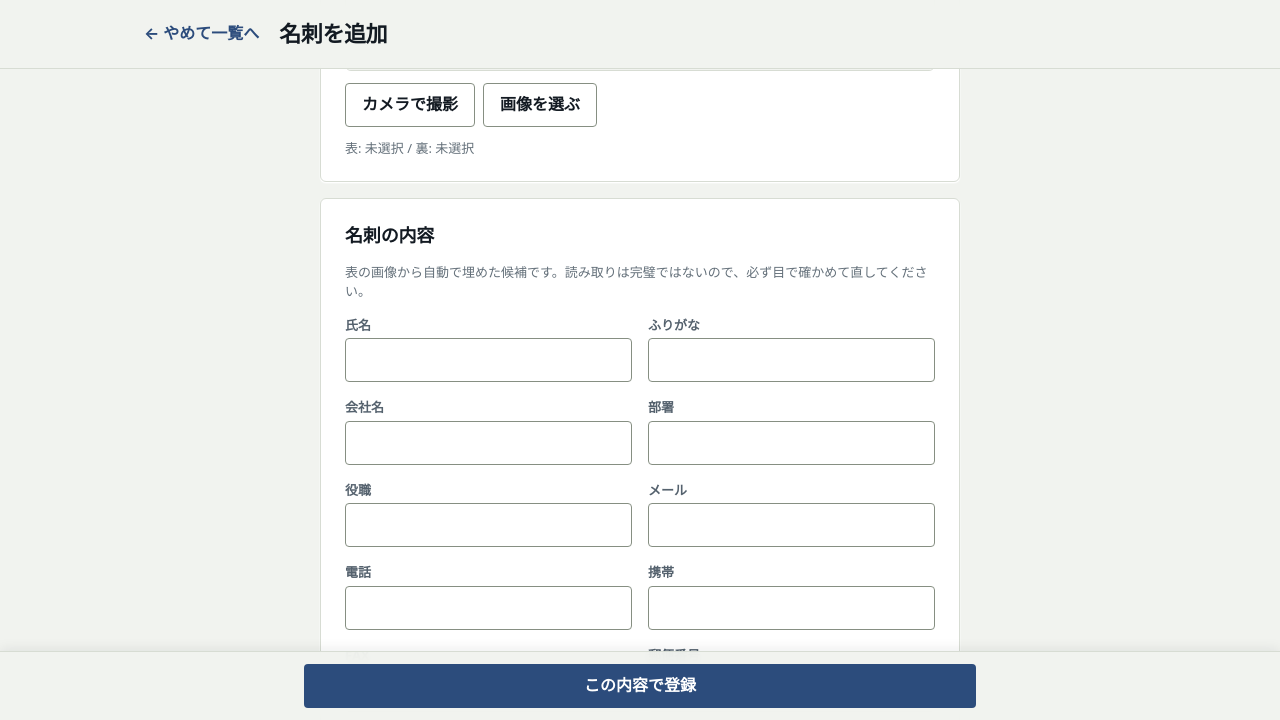
Test: 登録画面 / 保存 › 登録に失敗したらエラーを見せ、フォームに留まる
(page scrolled)
Type "鈴木 一郎" into the field labelled "氏名" at (488,360), box [345, 338, 632, 382]
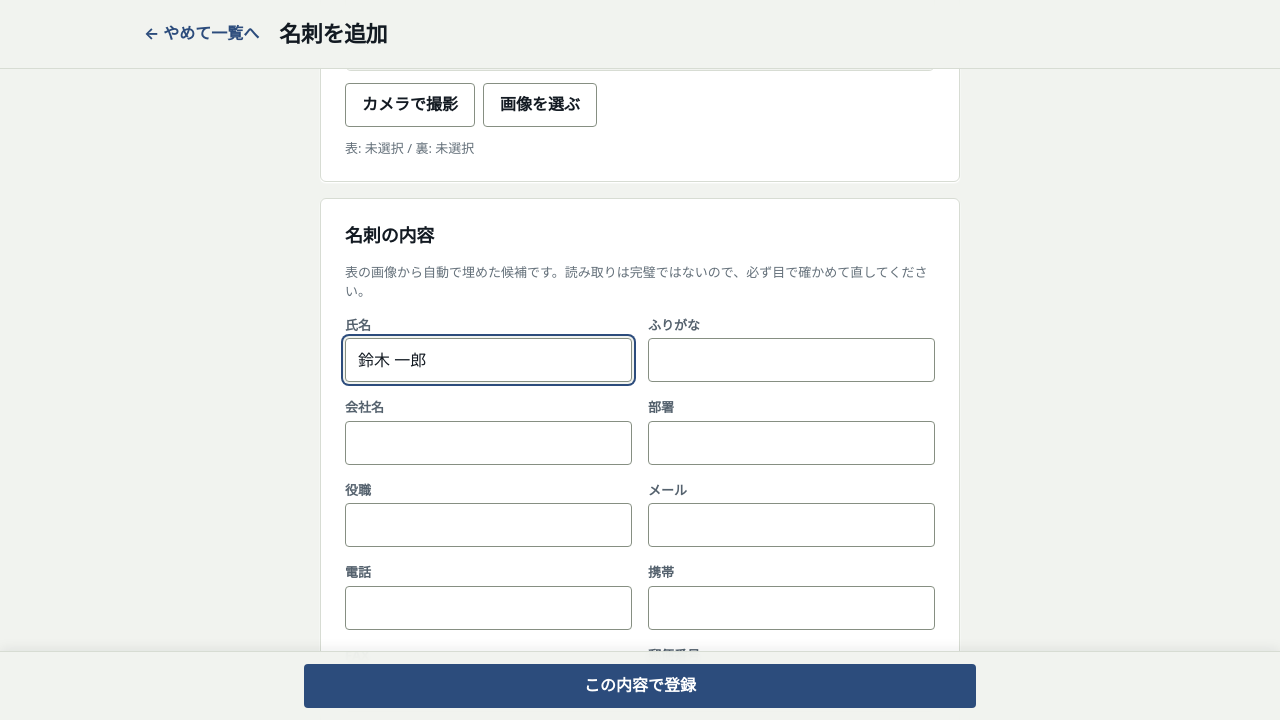
Click the button "この内容で登録" at (640,686), box [304, 664, 976, 708]
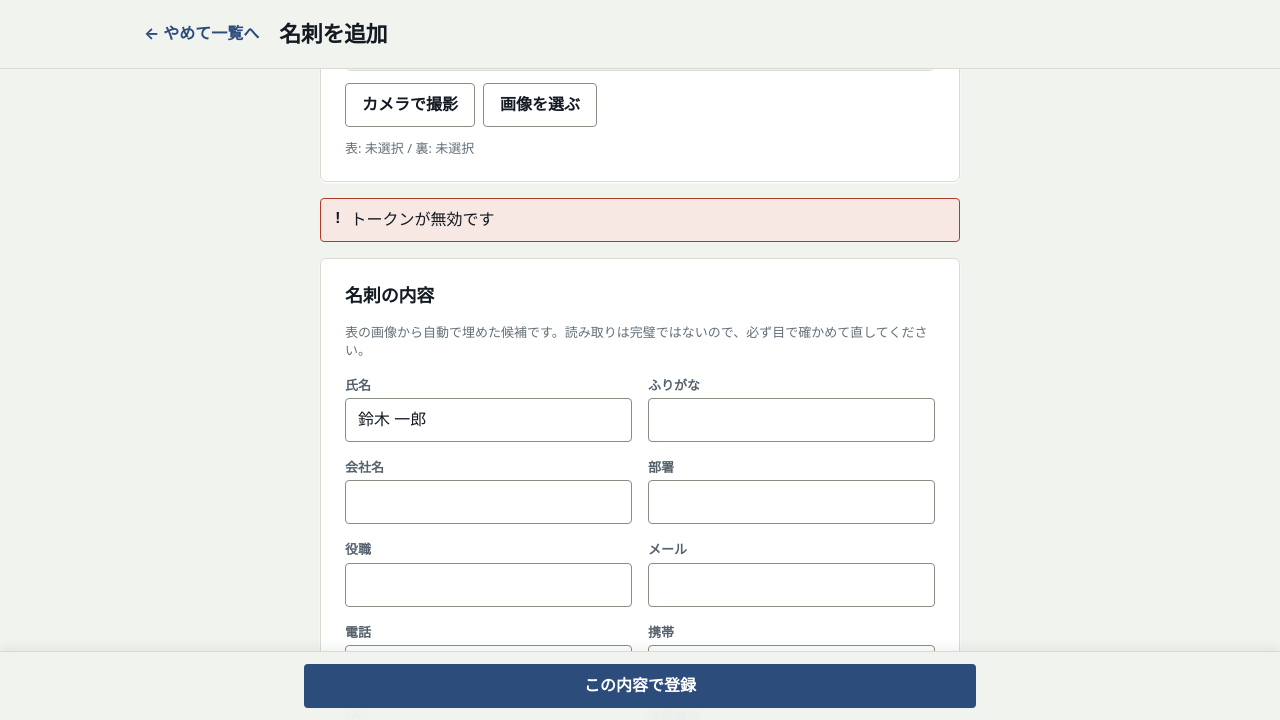
Now the text "トークンが無効です" is shown, box [351, 207, 495, 233]
